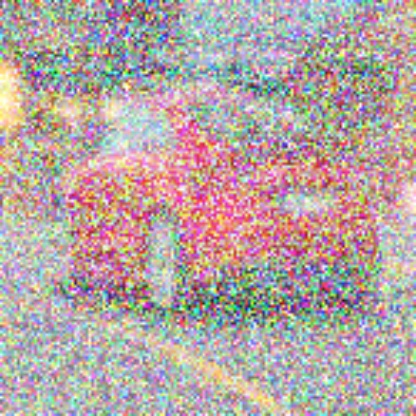Vehicle: (46, 87, 382, 324)
